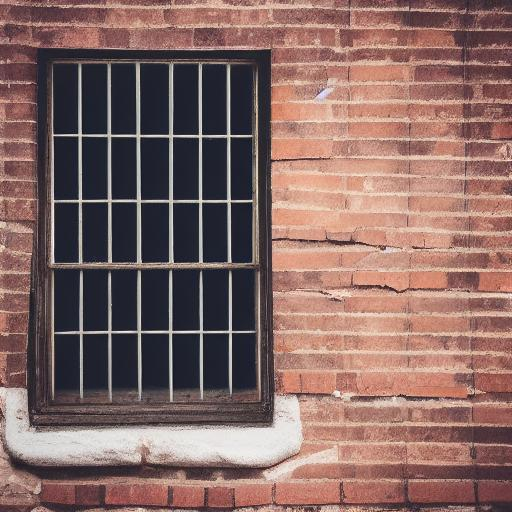Window: (2, 47, 307, 471)
